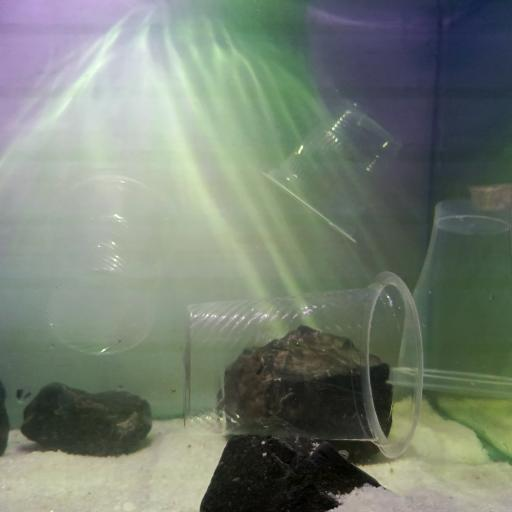plastic_cup: (185, 270, 425, 460), (384, 197, 512, 399), (49, 174, 177, 356), (258, 97, 403, 243)
